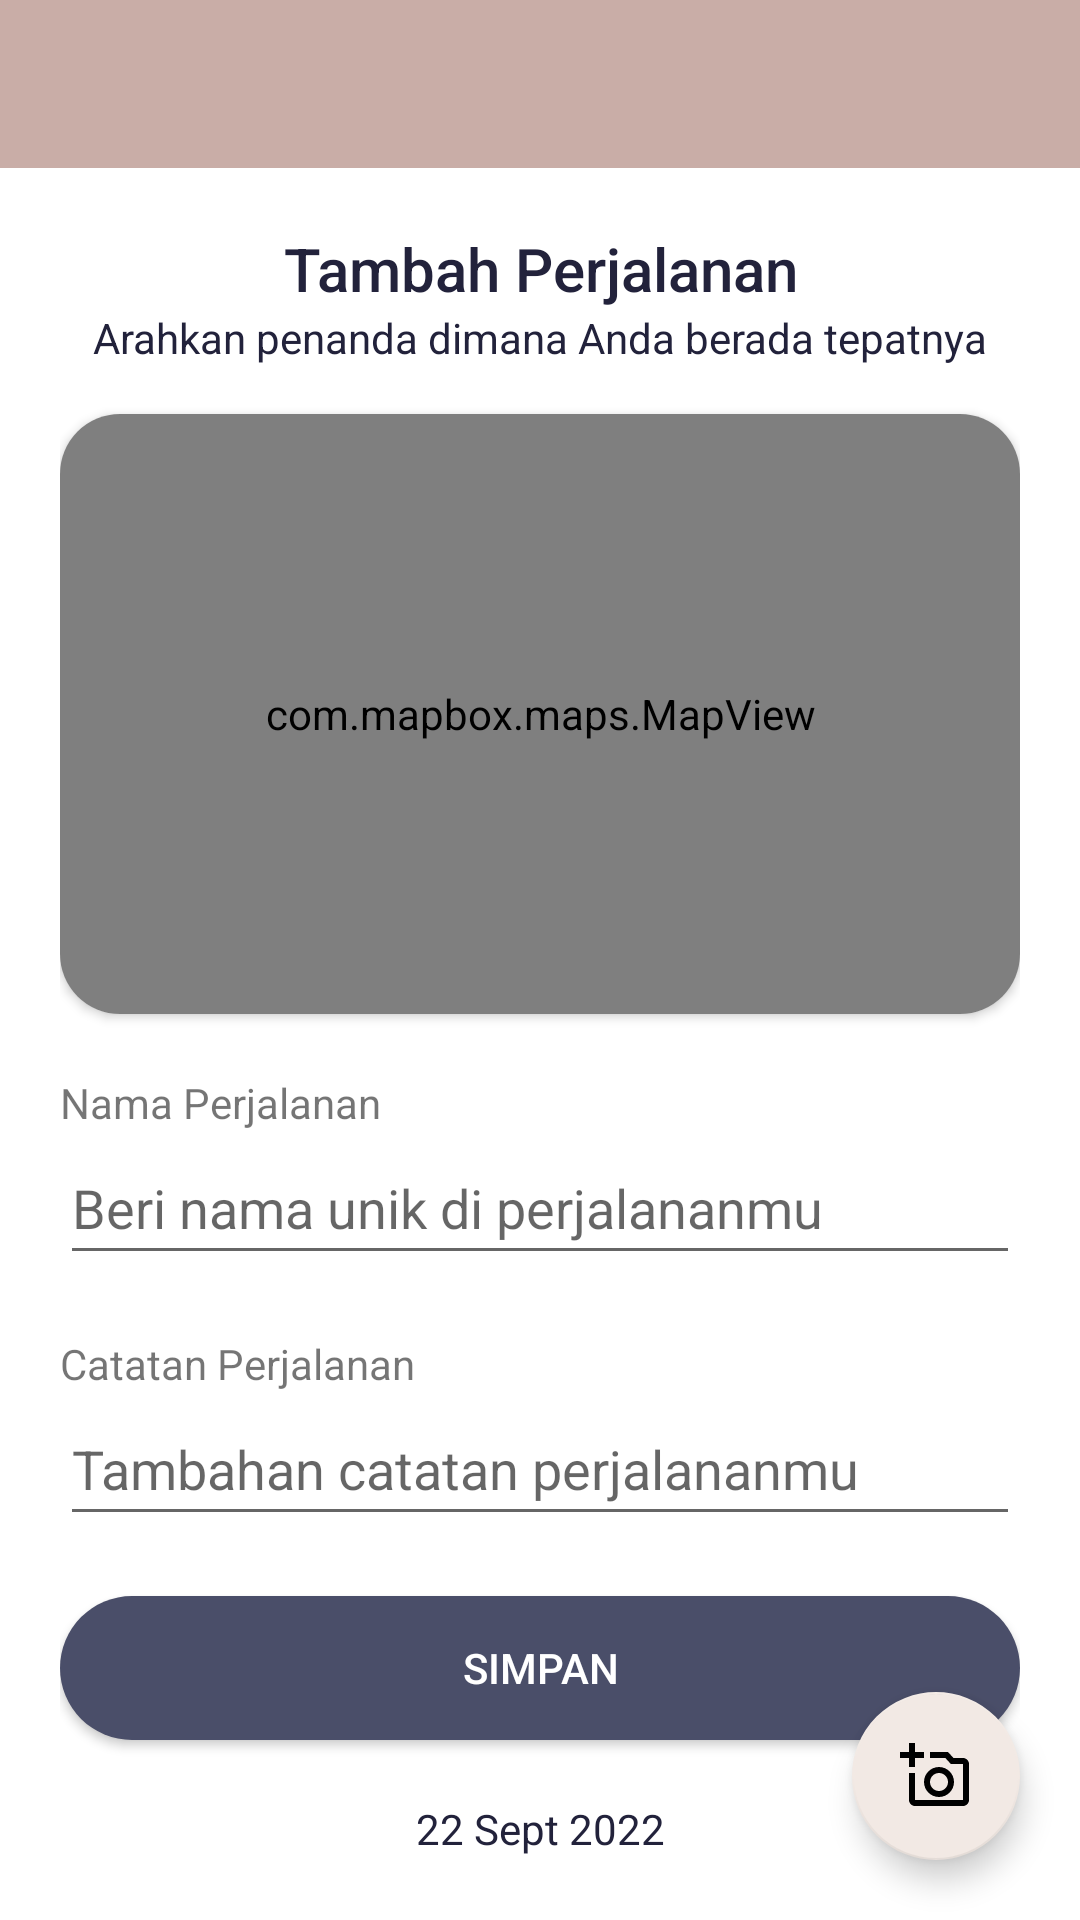

Point at icon controls on the screen. Image size 1080×1920, points as (x=x, y=y).
add photo: (x=936, y=1776)
